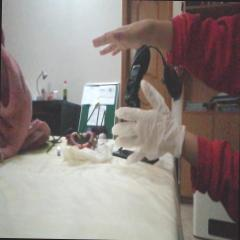gloved: (111, 80, 185, 166)
not-gloved: (92, 20, 167, 60)
